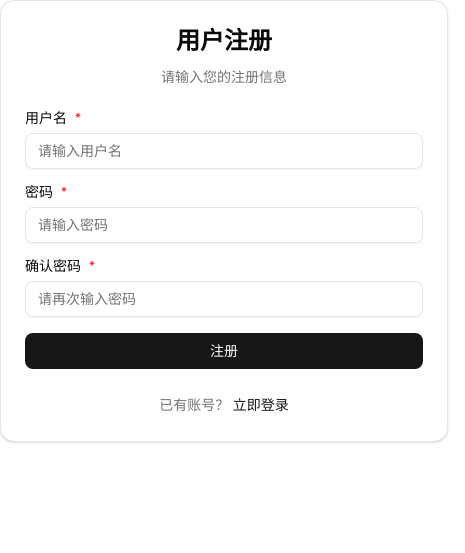
Test: RegisterForm › submits form with valid data
Type "testuser" into the field labelled "用户名 *".
click(224, 151); type("testuser")  # box [25,133,423,169]
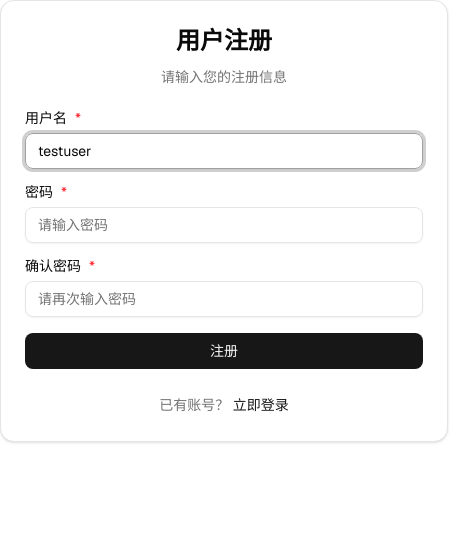
Type "password123" into the password field labelled "密码 *".
click(224, 225); type("password123")  # box [25,207,423,243]
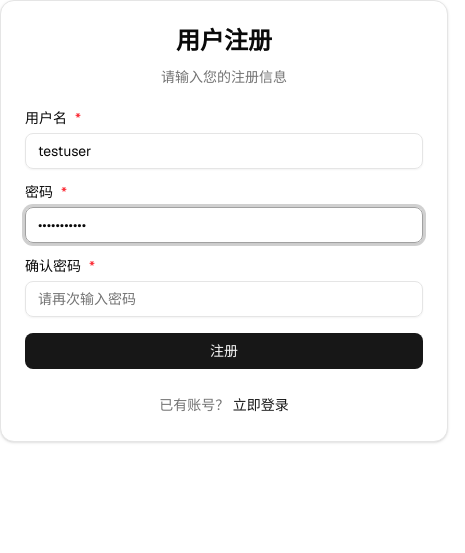
Type "password123" into the password field labelled "确认密码 *".
click(224, 299); type("password123")  # box [25,281,423,317]
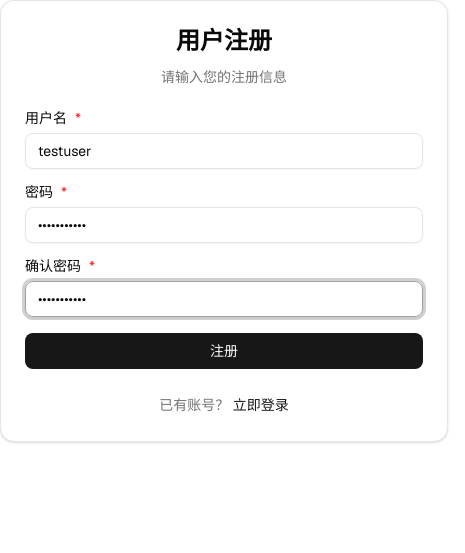
Click the button "注册".
click(224, 351)  # box [25,333,423,369]
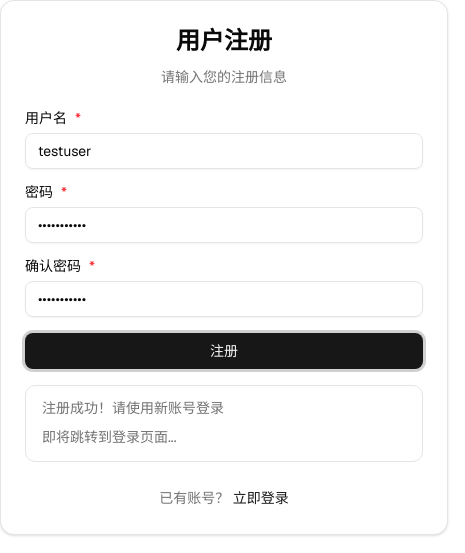
Result: the text "注册成功！请使用新账号登录" is shown at [42,399,224,417]
Result: the text "即将跳转到登录页面..." is shown at [42,426,176,449]
